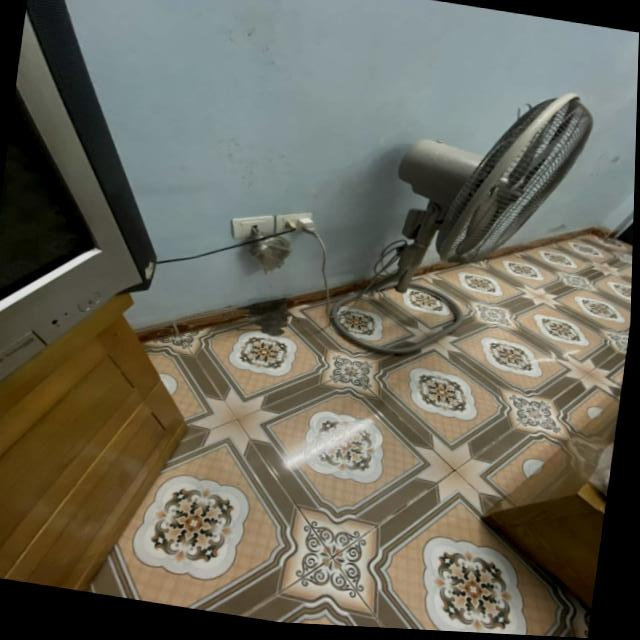outlet: (230, 209, 278, 244), (274, 206, 318, 241)
